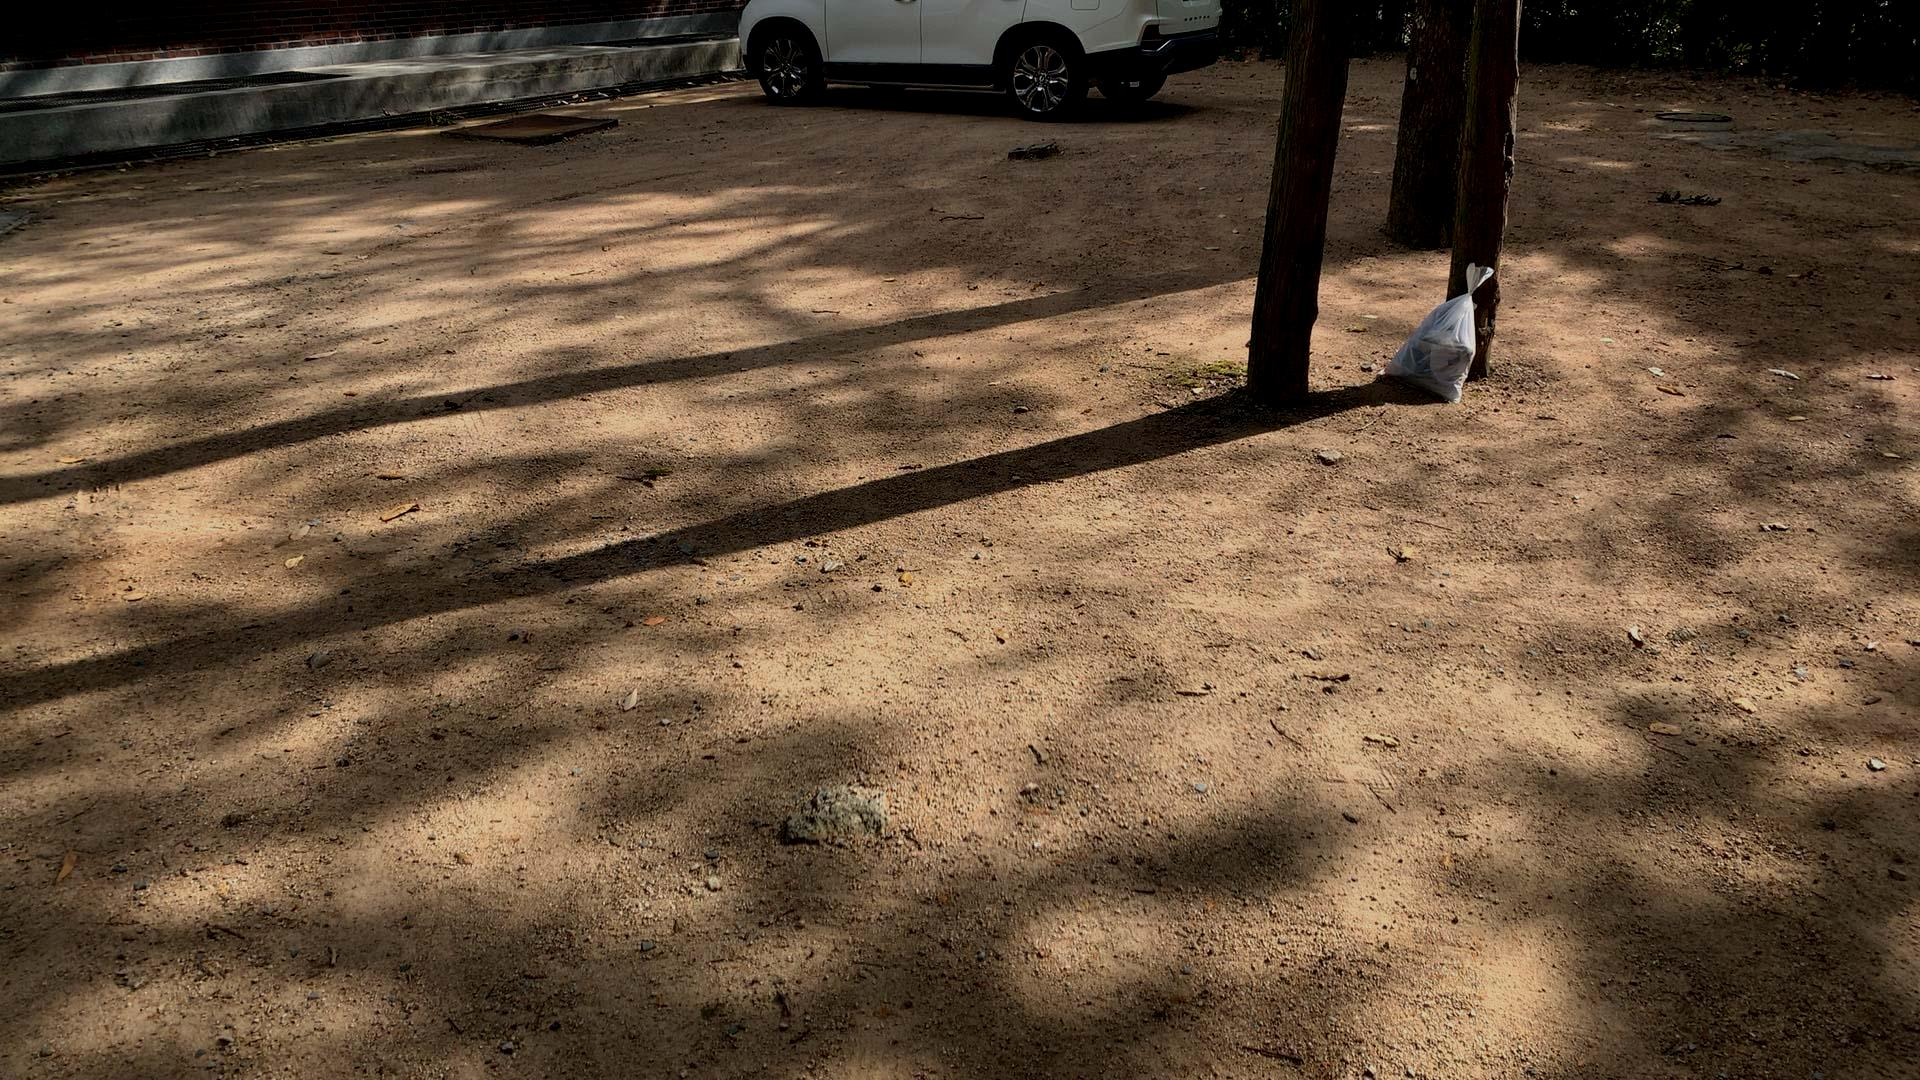white_bag: (1379, 257, 1507, 410)
